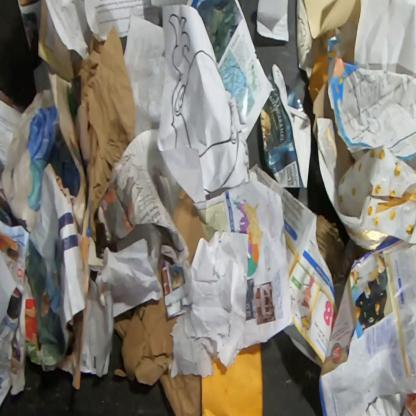cardboard: (112, 260, 202, 415), (261, 60, 312, 188), (316, 214, 372, 284), (172, 187, 207, 268), (312, 81, 335, 144)
